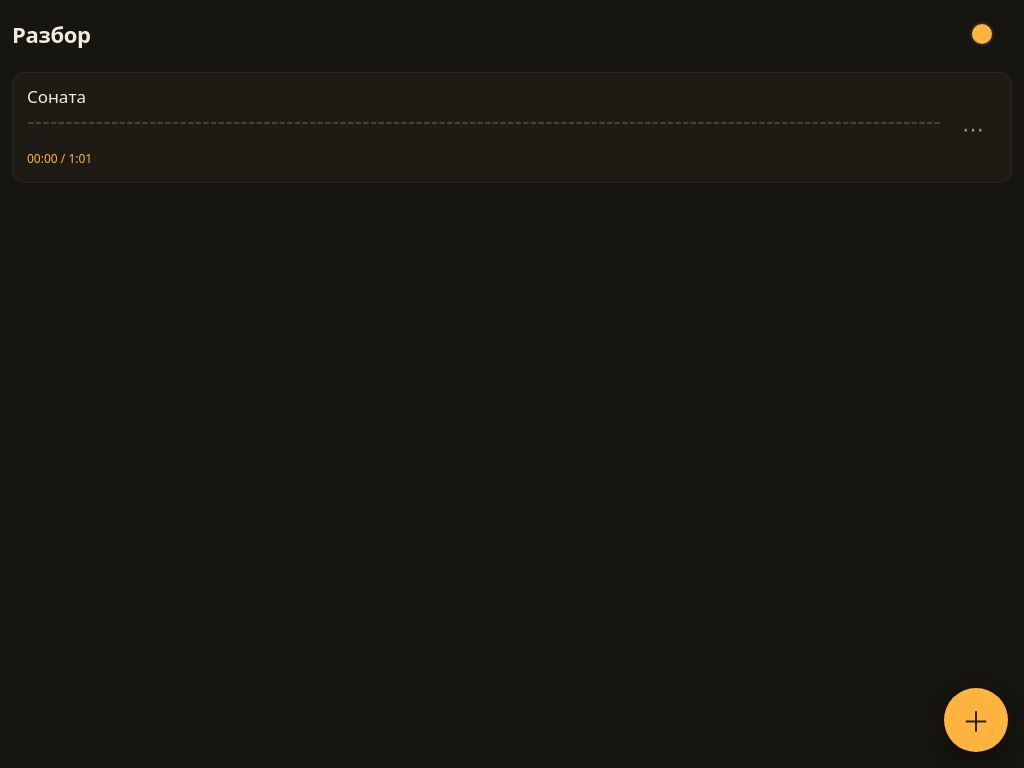
Test case: Library › opening the sheet never opens the track
Click the button named "действия" at x=973, y=128, box left=949, top=104, right=997, bottom=152
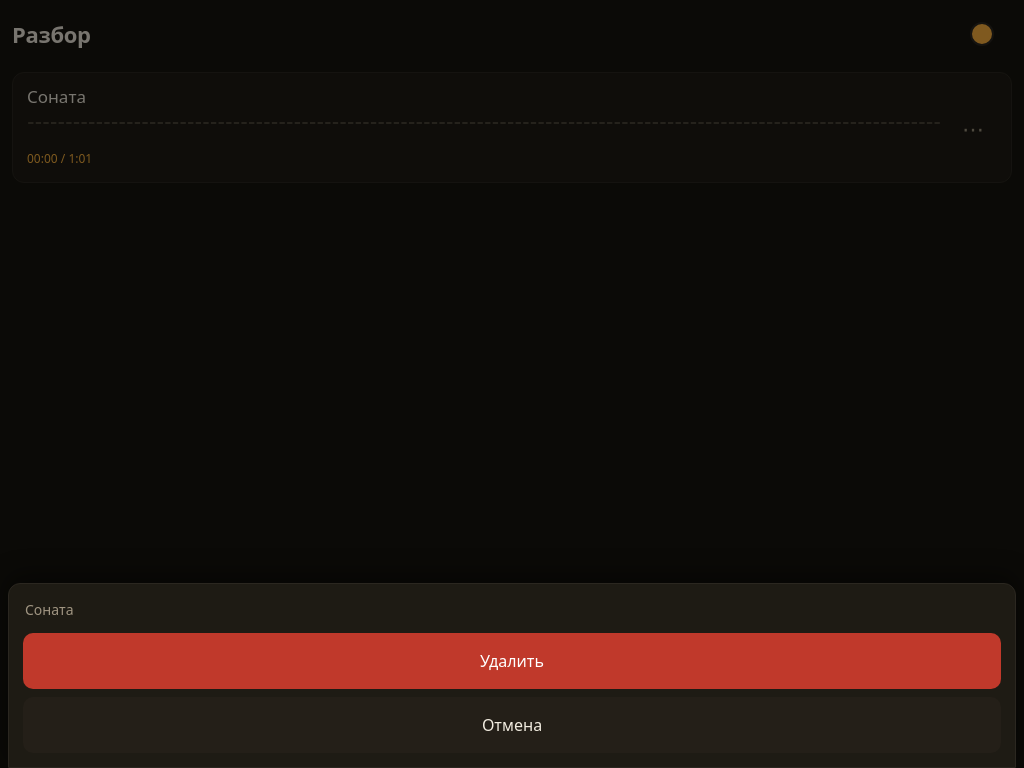
Result: the dialog is shown at left=8, top=583, right=1016, bottom=767
